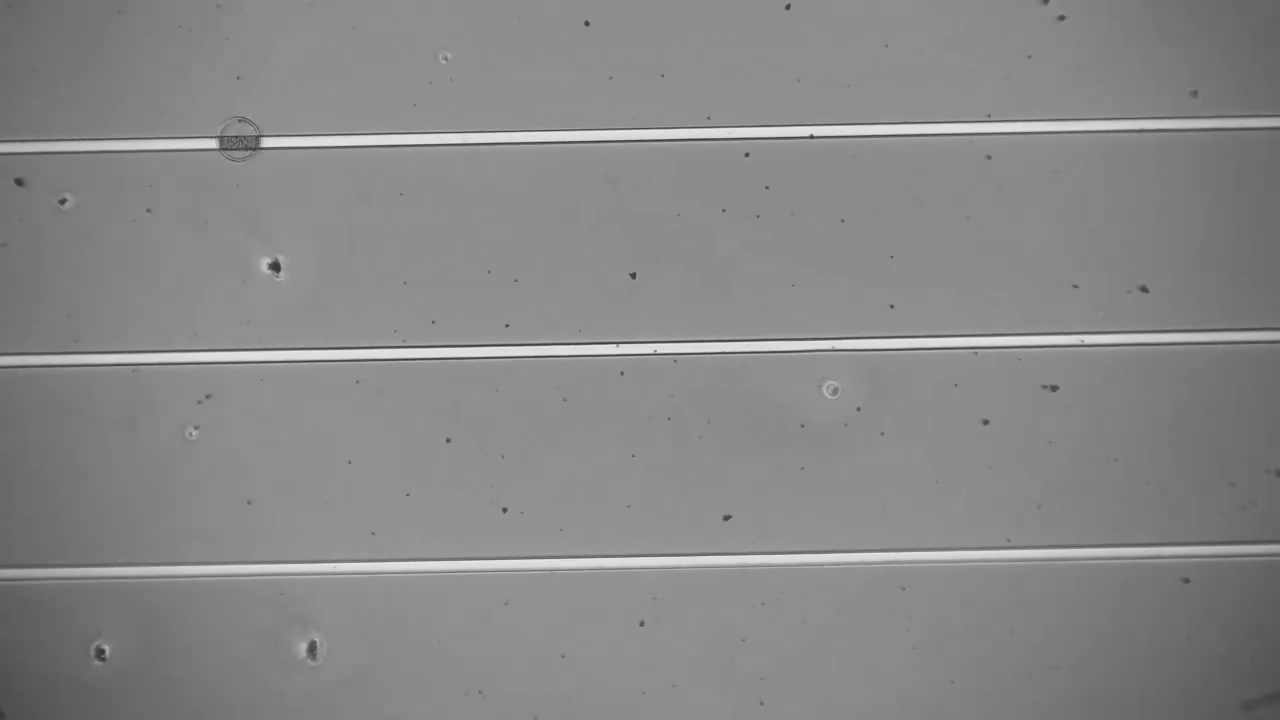gray_line: (203, 126, 275, 161)
